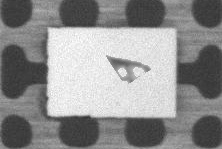DIE_INK: (153, 35, 222, 57)
